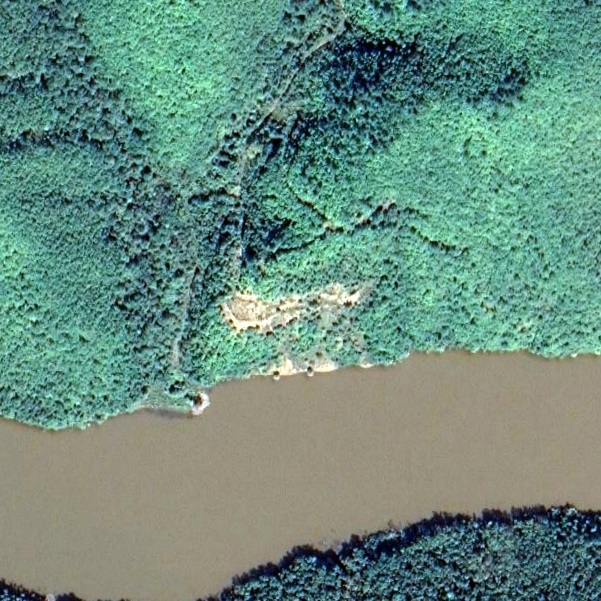slope: (214, 272, 376, 343), (257, 338, 341, 372)
